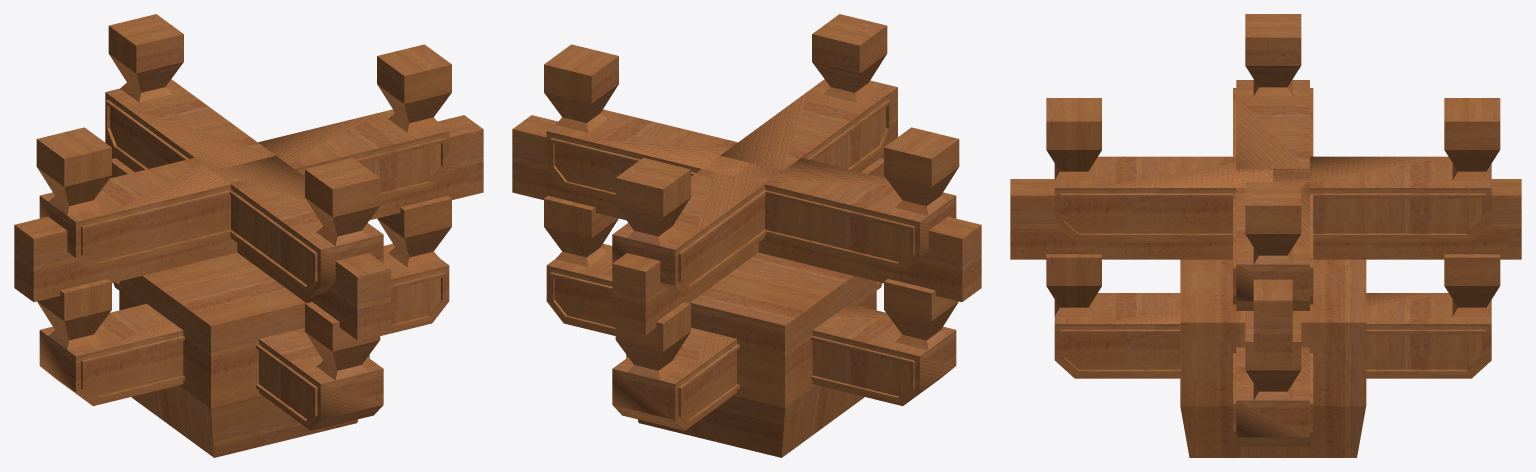
The picture shows the model from 3 angles, left to right: view 1: azimuth 30°, elevation 25°; view 2: azimuth 150°, elevation 25°; view 3: azimuth 270°, elevation 25°; orthographic projection.
Parts seen in each view (by area): view 1: samor_4136_6000.001, samor_4136_6007.001, samor_4136_6010.001, samor_4136_6008.001, samor_4136_6009.001, samor_4136_6003.001, samor_4136_6005.001, samor_4136_6002.001, samor_4136_6004.001, samor_4136_6001.001; view 2: samor_4136_6000.001, samor_4136_6007.001, samor_4136_6008.001, samor_4136_6009.001, samor_4136_6010.001, samor_4136_6003.001, samor_4136_6006.001, samor_4136_6002.001, samor_4136_6004.001, samor_4136_6001.001; view 3: samor_4136_6000.001, samor_4136_6010.001, samor_4136_6008.001, samor_4136_6005.001, samor_4136_6006.001, samor_4136_6001.001, samor_4136_6007.001, samor_4136_6009.001, samor_4136_6004.001, samor_4136_6002.001.
Boxes of the visible parts, box(x1,y1,x2,y2) form: samor_4136_6000.001: box(119, 252, 369, 457); samor_4136_6007.001: box(36, 127, 230, 271); samor_4136_6010.001: box(213, 155, 383, 296); samor_4136_6008.001: box(105, 14, 275, 170); samor_4136_6009.001: box(258, 44, 451, 201); samor_4136_6003.001: box(37, 279, 184, 405); samor_4136_6005.001: box(256, 302, 383, 430); samor_4136_6002.001: box(14, 115, 483, 301); samor_4136_6004.001: box(377, 196, 451, 335); samor_4136_6001.001: box(105, 129, 390, 340); samor_4136_6000.001: box(626, 252, 876, 457); samor_4136_6007.001: box(734, 127, 959, 271); samor_4136_6008.001: box(612, 155, 782, 296); samor_4136_6009.001: box(544, 44, 750, 201); samor_4136_6010.001: box(720, 14, 890, 170); samor_4136_6003.001: box(811, 279, 958, 405); samor_4136_6006.001: box(612, 302, 739, 430); samor_4136_6002.001: box(512, 115, 981, 301); samor_4136_6004.001: box(544, 196, 618, 335); samor_4136_6001.001: box(612, 80, 897, 334); samor_4136_6000.001: box(1180, 259, 1366, 457); samor_4136_6010.001: box(1046, 98, 1273, 242); samor_4136_6008.001: box(1273, 98, 1500, 242); samor_4136_6005.001: box(1046, 254, 1180, 378); samor_4136_6006.001: box(1366, 254, 1500, 378); samor_4136_6001.001: box(1010, 179, 1521, 259); samor_4136_6007.001: box(1233, 14, 1313, 172); samor_4136_6009.001: box(1233, 172, 1313, 310); samor_4136_6004.001: box(1233, 318, 1313, 446); samor_4136_6002.001: box(1253, 79, 1292, 364).
Size of the model in its own units: 35.7 by 23.4 by 34.68.
Materials: 1 (1 with a texture image).
